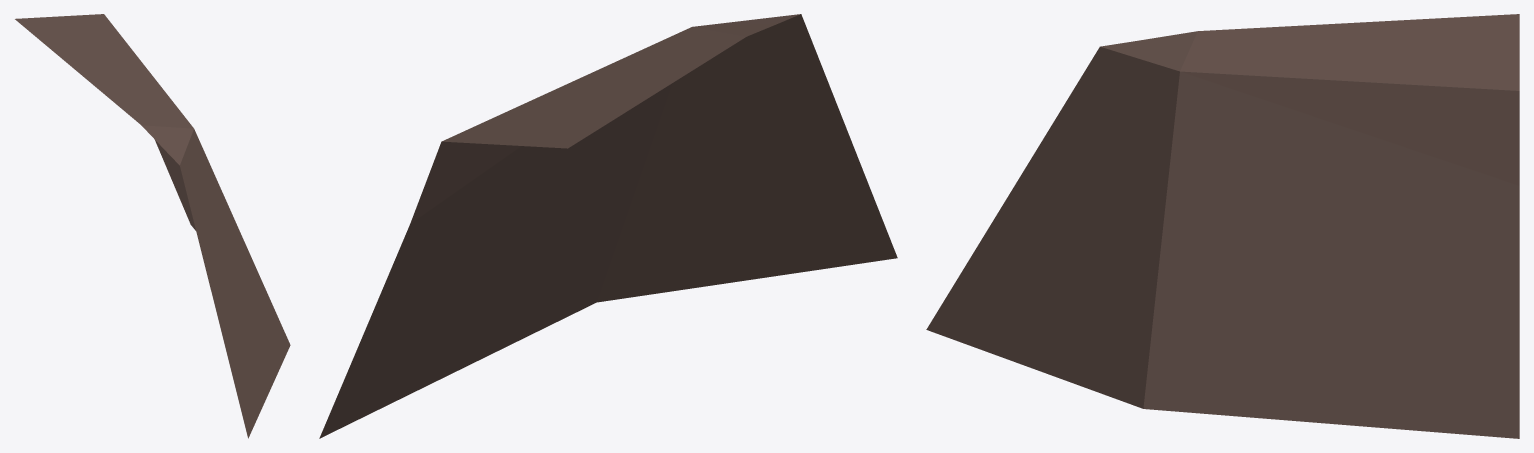
Rendered from cell_346.obj.
The picture shows the model from 3 angles, left to right: view 1: azimuth 30°, elevation 25°; view 2: azimuth 150°, elevation 25°; view 3: azimuth 270°, elevation 25°; orthographic projection. The views are drawn at different scales.
Bounding box in the file's own units: 0.1432 × 0.1932 × 0.329.
